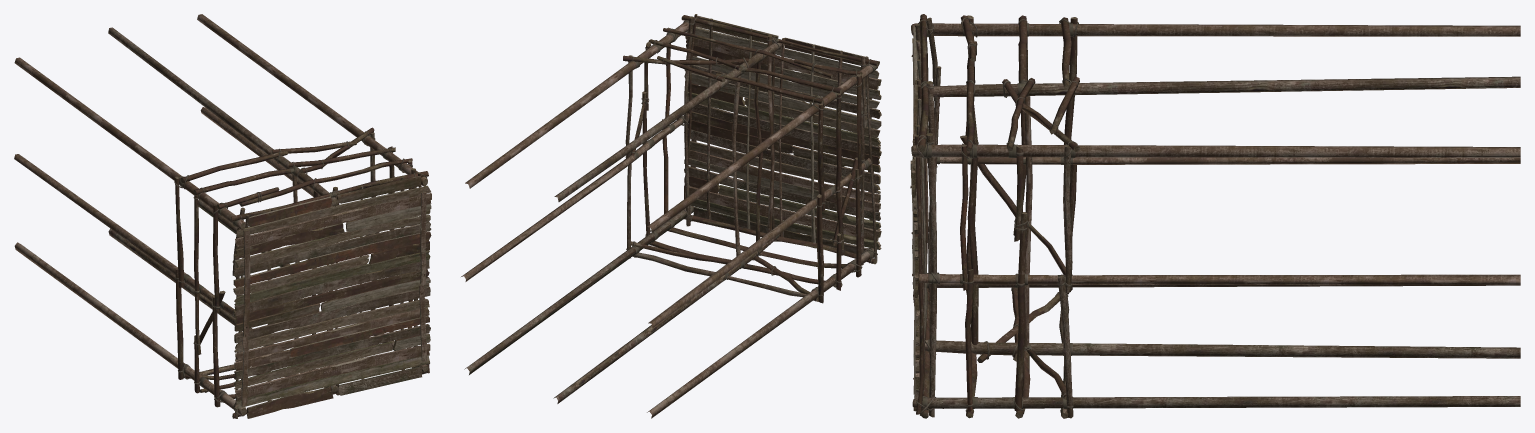
File: GEN_PRO_Dock_Bamboo_6x6_01A_LOD0-transformed.glb
3 views of the same model, side by side, from view 1: azimuth 30°, elevation 25°; view 2: azimuth 150°, elevation 25°; view 3: azimuth 270°, elevation 25° (orthographic). The views are drawn at different scales.
Parts seen in each view (by area): view 1: GEN_PRO_Dock_Bamboo_6x6_01A_LOD0; view 2: GEN_PRO_Dock_Bamboo_6x6_01A_LOD0; view 3: GEN_PRO_Dock_Bamboo_6x6_01A_LOD0.
Boxes of the visible parts, x1=… form: GEN_PRO_Dock_Bamboo_6x6_01A_LOD0: x1=14, y1=14, x2=431, y2=418; GEN_PRO_Dock_Bamboo_6x6_01A_LOD0: x1=461, y1=14, x2=881, y2=418; GEN_PRO_Dock_Bamboo_6x6_01A_LOD0: x1=910, y1=14, x2=1520, y2=418.
Size of the model in its own units: 0.0621 by 0.0624 by 0.1214.
2 materials, 2 textured.
